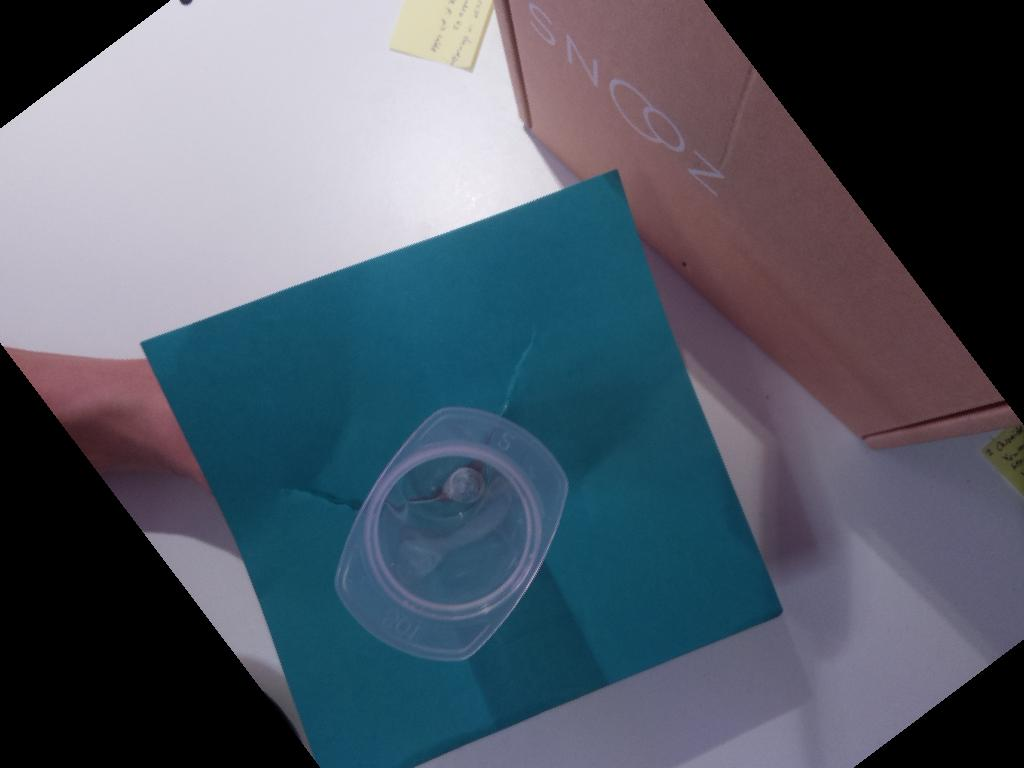clean: (333, 404, 571, 660)
